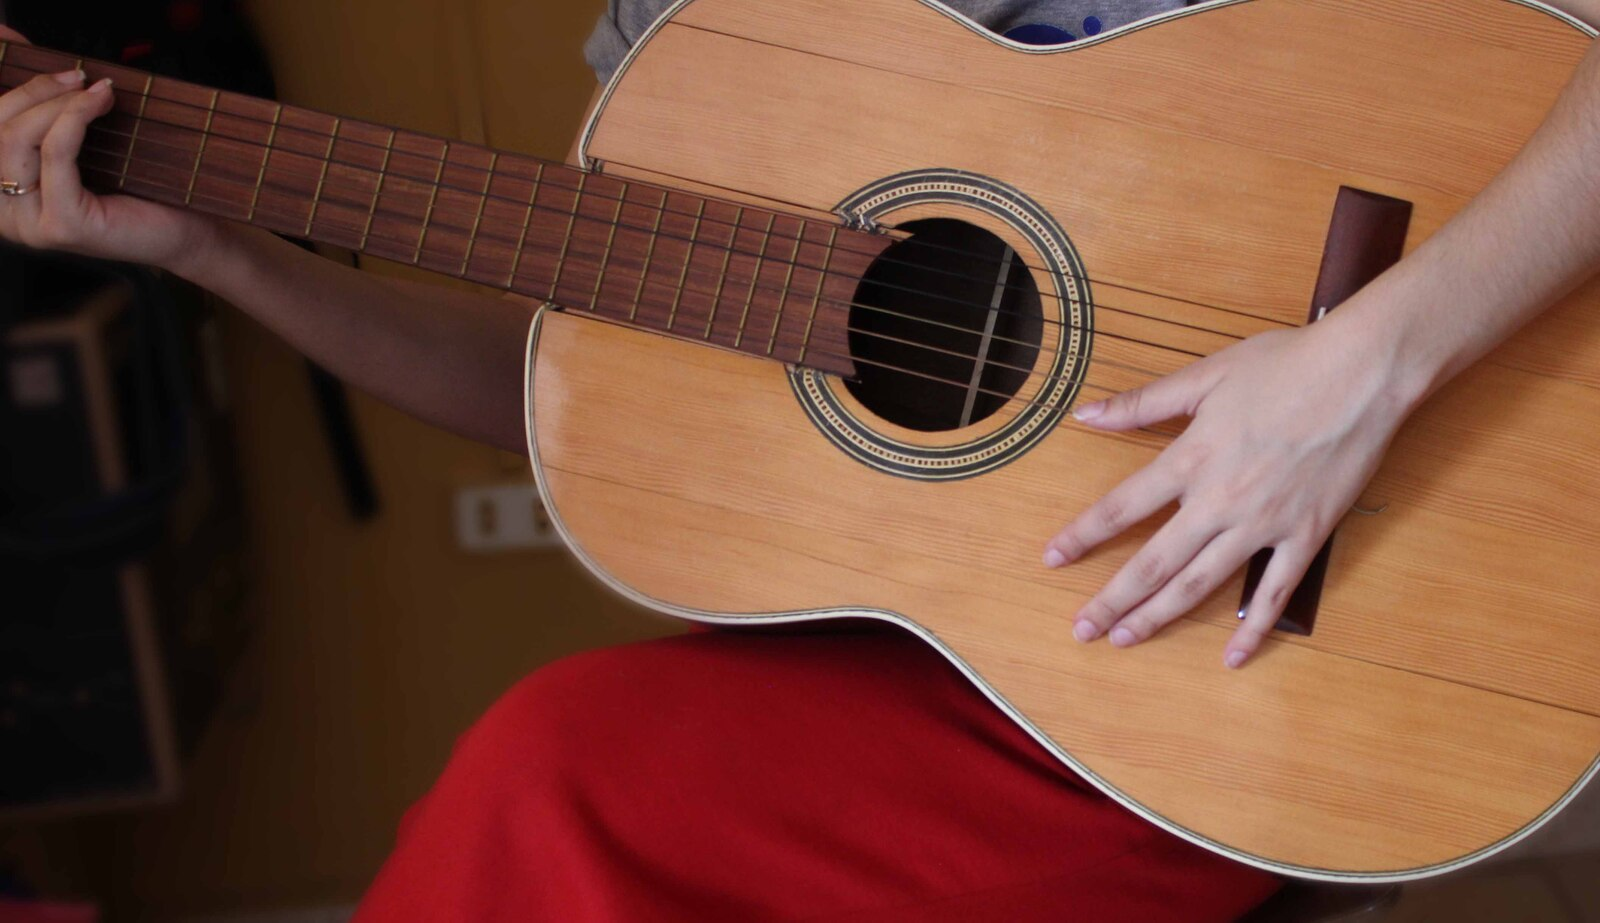guitar: (0, 24, 1599, 918), (0, 4, 1134, 878), (0, 20, 1095, 483)
